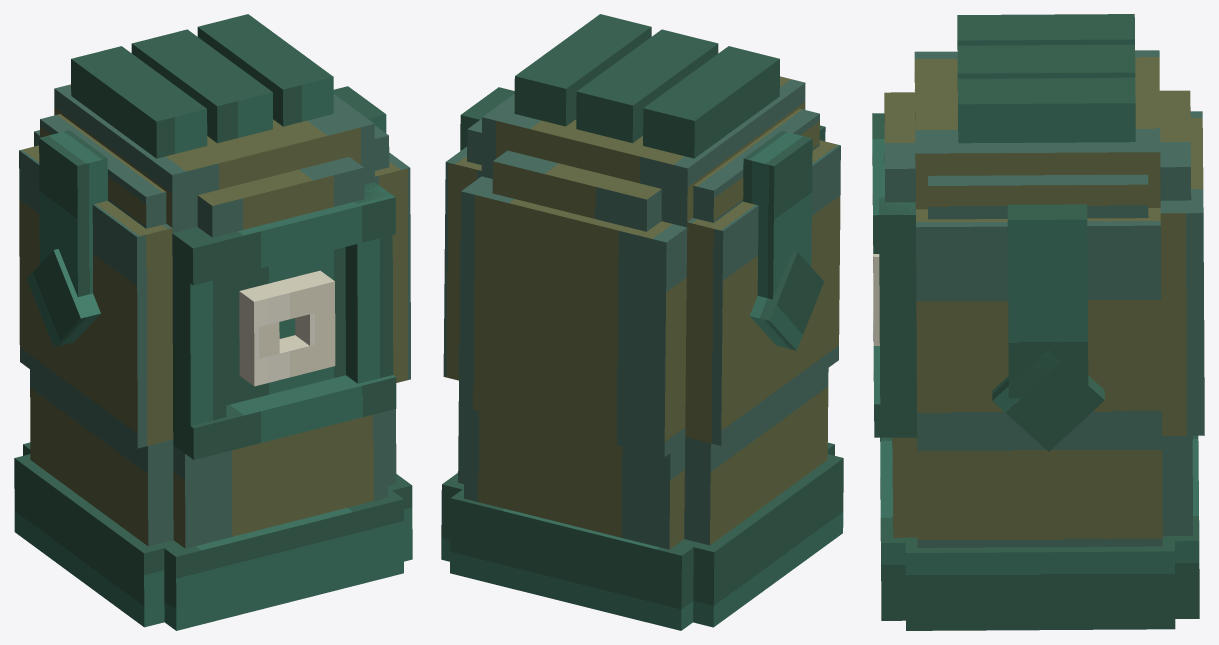
Rendered from goblin_gauntlet_minecraft_item.fbx.
3 renders of one model, left to right at view 1: azimuth 30°, elevation 25°; view 2: azimuth 150°, elevation 25°; view 3: azimuth 270°, elevation 25°, orthographic. The views are drawn at different scales.
Visible parts, largest first — view 1: cube_1, cube_15, cube_13, cube_0, cube_12, cube_14, cube_18, cube_9, cube_3, cube_17, cube_10, cube_8 (+12 smaller); view 2: cube_4, cube_1, cube_13, cube_15, cube_12, cube_14, cube_0, cube_9, cube_10, cube_8, cube_6, cube_7 (+4 smaller); view 3: cube_2, cube_12, cube_14, cube_24, cube_0, cube_7, cube_4, cube_16, cube_5, cube_6, cube_15, cube_8 (+5 smaller).
Part boxes in pixels (x1,y1,x2,y2): cube_1: [19, 145, 173, 448]; cube_15: [23, 442, 403, 630]; cube_13: [173, 411, 387, 548]; cube_0: [54, 84, 374, 233]; cube_12: [30, 369, 396, 546]; cube_14: [14, 454, 412, 627]; cube_18: [172, 182, 395, 285]; cube_9: [71, 46, 207, 158]; cube_3: [172, 227, 226, 457]; cube_17: [173, 375, 396, 459]; cube_10: [39, 130, 107, 296]; cube_8: [131, 29, 272, 143]; cube_4: [459, 176, 687, 457]; cube_1: [682, 140, 840, 445]; cube_13: [464, 407, 684, 549]; cube_15: [450, 442, 834, 630]; cube_12: [458, 368, 828, 545]; cube_14: [441, 454, 843, 627]; cube_0: [481, 76, 805, 227]; cube_9: [643, 46, 779, 158]; cube_10: [743, 131, 812, 299]; cube_8: [576, 29, 718, 143]; cube_6: [492, 150, 661, 231]; cube_7: [514, 14, 651, 126]; cube_2: [916, 208, 1161, 449]; cube_12: [917, 438, 1162, 547]; cube_14: [905, 536, 1175, 630]; cube_24: [1007, 204, 1088, 398]; cube_0: [914, 50, 1160, 210]; cube_7: [958, 77, 1135, 143]; cube_4: [1160, 111, 1204, 435]; cube_16: [879, 197, 916, 437]; cube_5: [928, 174, 1148, 219]; cube_6: [884, 90, 1191, 202]; cube_15: [880, 435, 1199, 620]; cube_8: [957, 44, 1135, 90].
Size of the model in its own units: 0.3887 by 0.5656 by 0.3397.
Materials: 3 (3 with a texture image).
